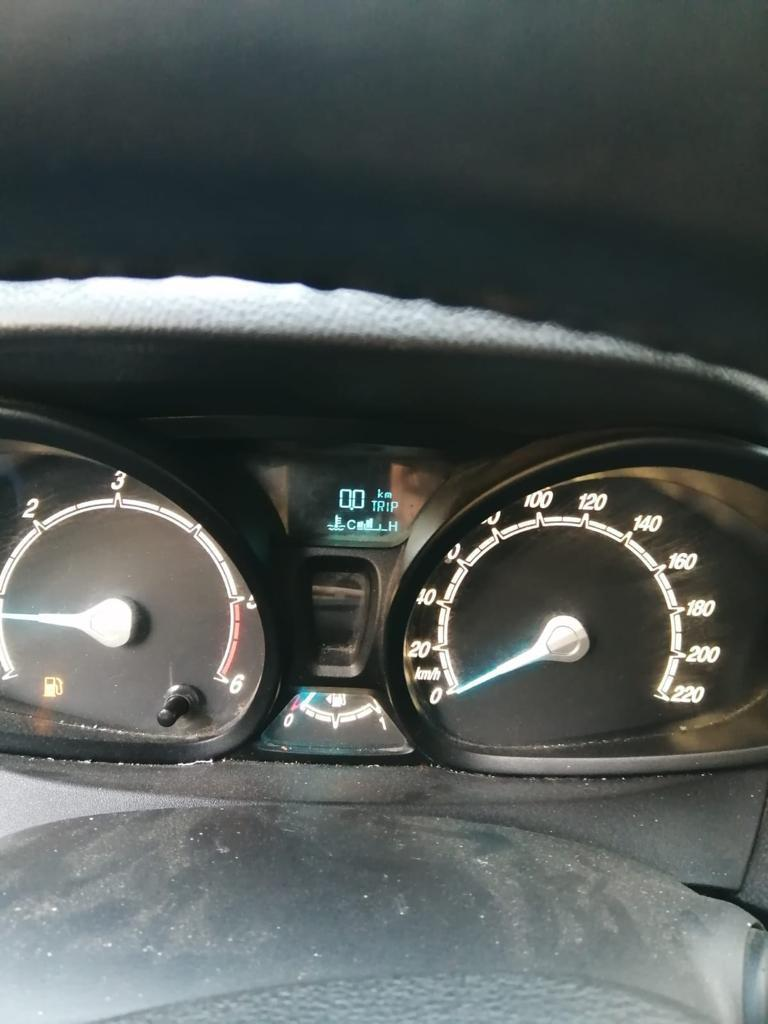,: (350, 507, 354, 510)
0: (352, 488, 365, 509), (338, 488, 351, 509)
X: (387, 519, 397, 532), (346, 518, 356, 529), (377, 500, 385, 512), (369, 500, 377, 512), (390, 501, 398, 512), (383, 491, 392, 499), (376, 488, 383, 498), (385, 500, 389, 512)
odometer: (282, 476, 418, 550)
